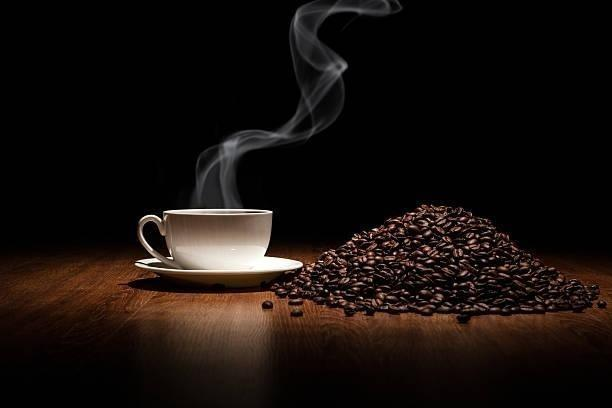cup-handle: (136, 206, 273, 271)
